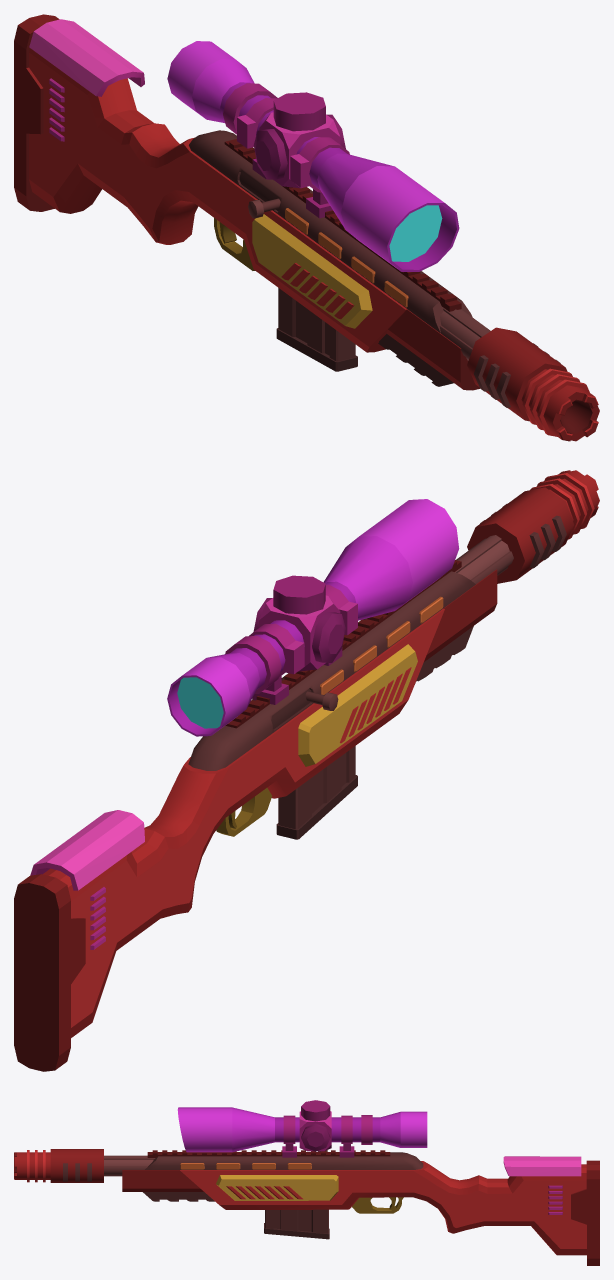
The model's file is Weapon_SniperRifle01_G4.fbx.
3 renders of one model, top to bottom at view 1: azimuth 30°, elevation 25°; view 2: azimuth 150°, elevation 25°; view 3: azimuth 270°, elevation 25°, orthographic. The views are drawn at different scales.
Parts seen in each view (by area): view 1: Weapon_SniperRifle01_G4; view 2: Weapon_SniperRifle01_G4; view 3: Weapon_SniperRifle01_G4.
Boxes of the visible parts, bbox=[...] form: Weapon_SniperRifle01_G4: bbox=[14, 14, 599, 441]; Weapon_SniperRifle01_G4: bbox=[14, 470, 599, 1071]; Weapon_SniperRifle01_G4: bbox=[14, 1100, 599, 1265].
Size of the model in its own units: 1.52 by 5.4 by 18.28.
